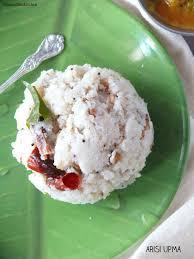upma: (12, 63, 172, 214)
